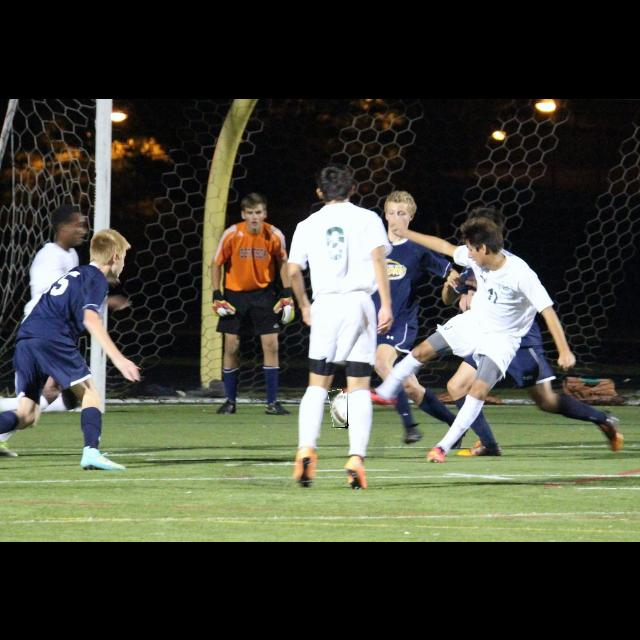Football: (330, 390, 348, 428)
